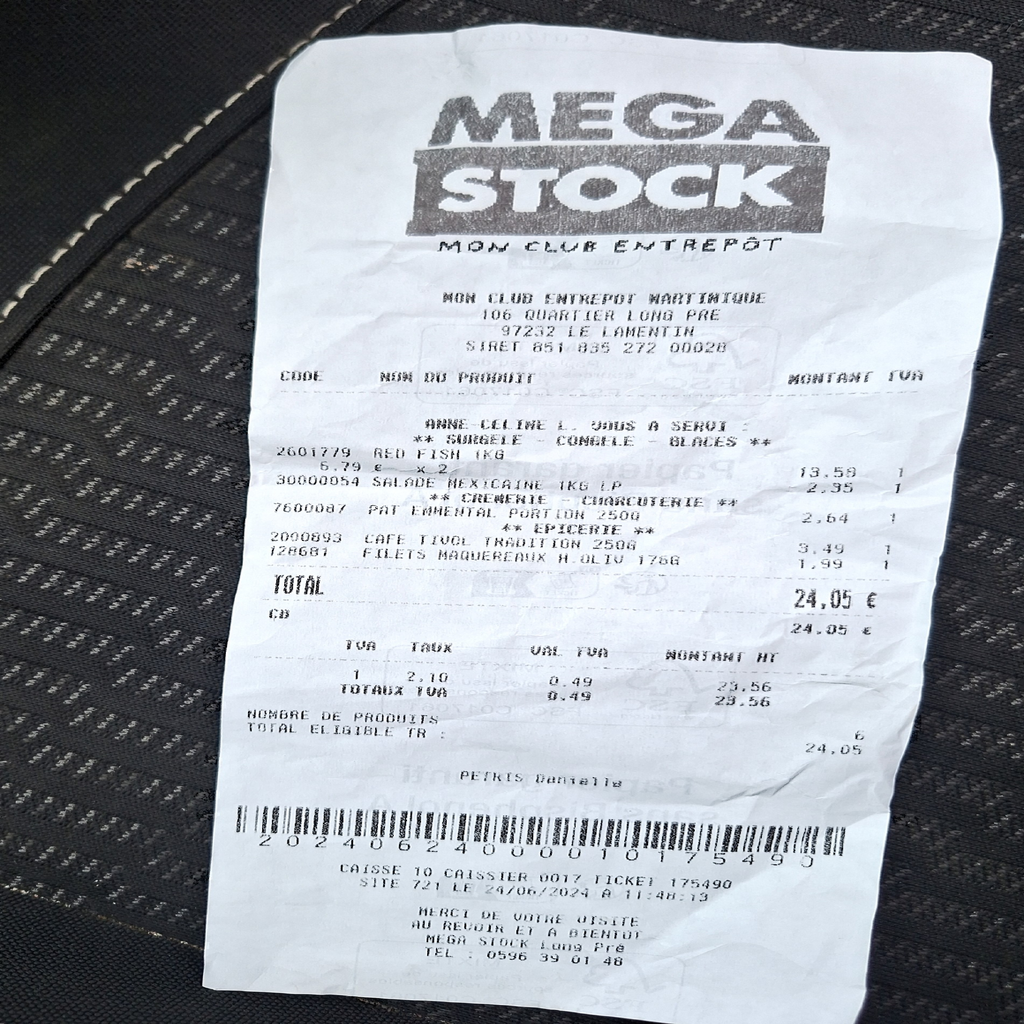recipt: (204, 19, 1005, 1015)
